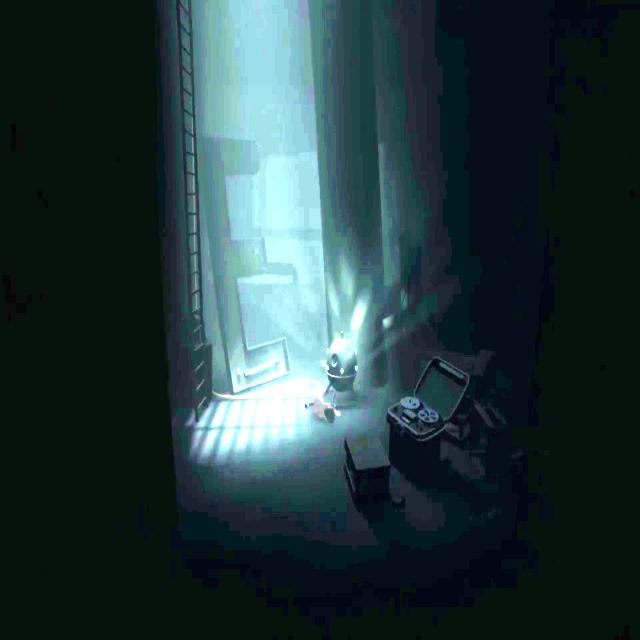boy: (305, 396, 342, 424)
